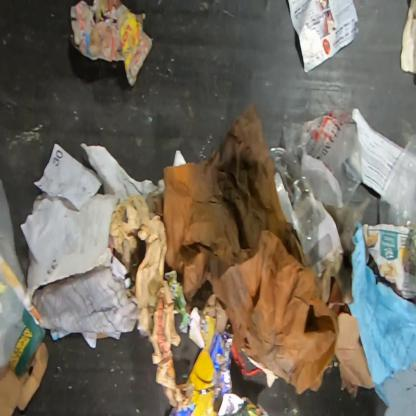cardboard: (168, 314, 236, 415), (0, 296, 50, 415), (334, 312, 376, 398)
soft_plastic: (270, 106, 362, 279), (0, 178, 29, 368), (378, 133, 416, 227), (379, 359, 415, 415)
